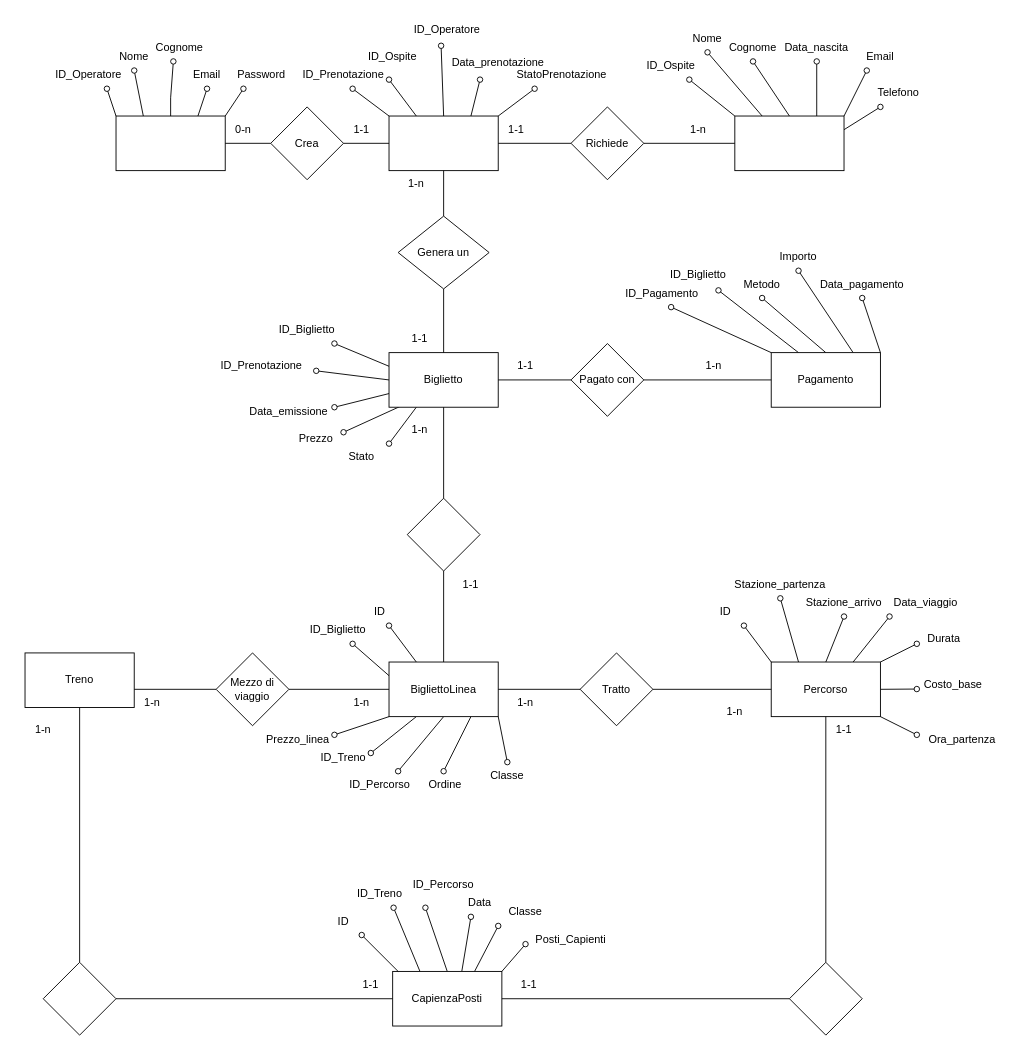
The diagram is 1011 pixels wide and 1051 high, and some of its shapes have lost their labels. The box of each missing label's shape, as (x1, y1, x2, y2) in pixels:
Include: (406, 497, 480, 571)
Offre posti: (789, 961, 862, 1035)
Operatore: (115, 115, 225, 171)
Ospite: (734, 115, 844, 171)
Prenotazione: (388, 115, 498, 171)
Può ospitare: (42, 961, 116, 1035)
